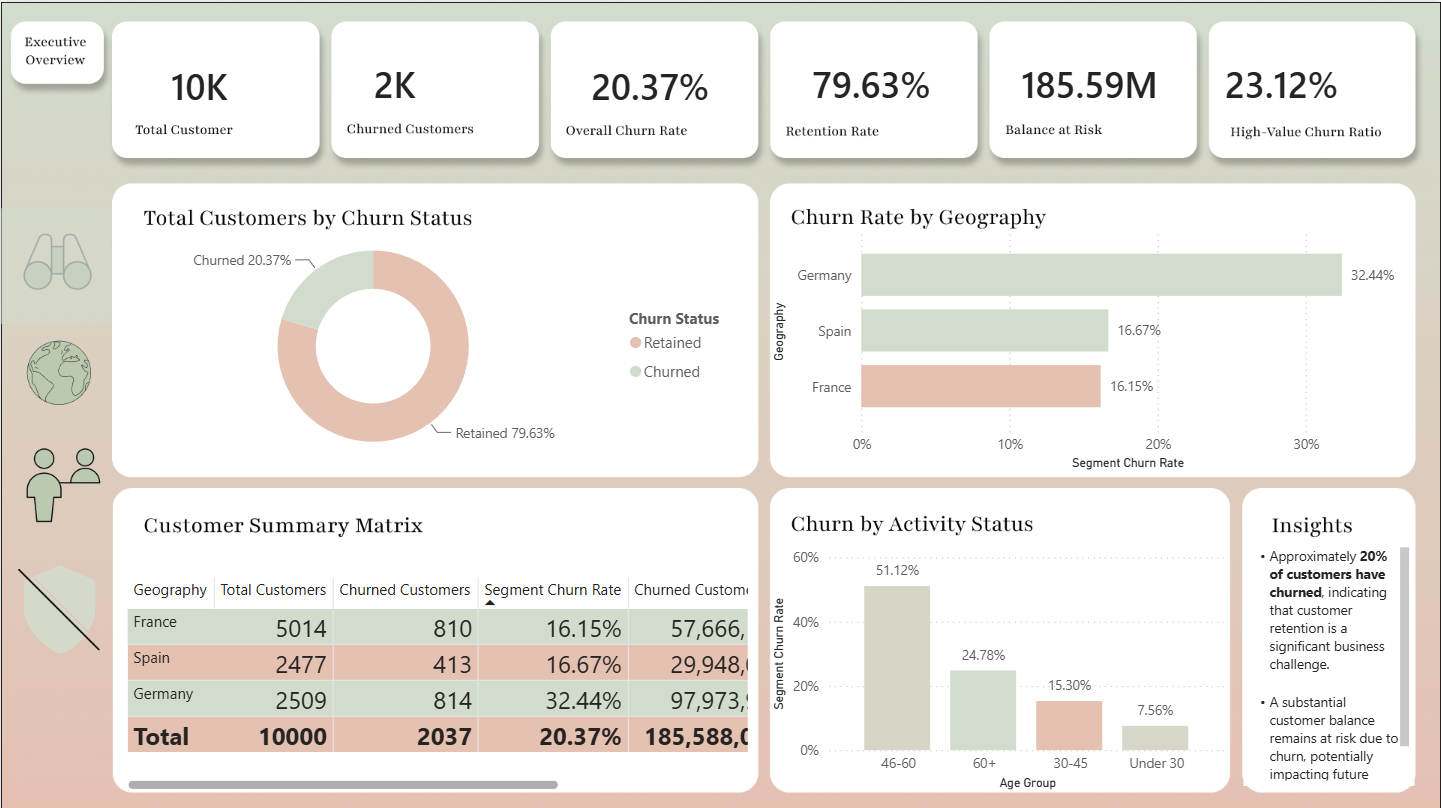

What the dashboard file says about the page in this screenshot:
{"tool":"powerbi","page":{"name":"Executive Overview","canvas":[1280,720],"ordinal":0},"visuals":[{"type":"cardVisual","fields":{"Data":["Measures (2).Total Customers"]},"box":[122.5,18.8,138.8,107.5],"z":0},{"type":"cardVisual","fields":{"Data":["Measures (2).Overall Churn Rate"]},"box":[495,18.8,165,108.8],"z":1000},{"type":"cardVisual","fields":{"Data":["Measures (2).Retention Rate"]},"box":[692.5,17.5,170,108.8],"z":2000},{"type":"cardVisual","fields":{"Data":["Measures (2).Balance at Risk"]},"box":[877.5,17.5,181.2,108.8],"z":3000},{"type":"cardVisual","fields":{"Data":["Measures (2).High-Value Churn Ratio"]},"box":[1058.8,17.5,221.2,108.8],"z":4000},{"type":"donutChart","fields":{"Y":["Measures (2).Total Customers"],"Category":["Bank_Customers.Churn Status"]},"box":[98.8,191.2,561.2,230],"z":5000},{"type":"clusteredBarChart","title":"Churn Rate by Geography","fields":{"Category":["Bank_Customers.Geography"],"Y":["Measures (2).Segment Churn Rate"]},"box":[681.2,191.2,575,230],"z":6000},{"type":"columnChart","title":"Churn by Activity Status","fields":{"Category":["Bank_Customers.Age Group"],"Y":["Measures (2).Segment Churn Rate"]},"box":[681.2,480,412.5,225],"z":7000},{"type":"pivotTable","fields":{"Rows":["Bank_Customers.Geography"],"Values":["Measures (2).Total Customers","Measures (2).Churned Customers","Measures (2).Segment Churn Rate","Measures (2).Churned Customer Balance","Measures (2).Geographic Risk Index"]},"box":[107.5,506.2,561.2,198.8],"z":8000},{"type":"cardVisual","fields":{"Data":["Measures (2).Churned Customers"]},"box":[302.5,17.5,138.8,107.5],"z":9000},{"type":"actionButton","box":[0,286.2,100,82.5],"z":10000},{"type":"actionButton","box":[0,387.7,100,82.3],"z":11000},{"type":"actionButton","box":[0,486.9,100,105.4],"z":12000},{"type":"actionButton","box":[0,183,98,103],"z":12001},{"type":"textbox","box":[1104.4,480,152.2,216.7],"z":12002}]}

Visuals, with their boxes in screenshot pixels (x1, y1, x2, y2), scaled from the page's 1280x720 canvas onto the 1441x808 screenshot:
cardVisual - Measures (2).Total Customers: 138 21 294 142
cardVisual - Measures (2).Overall Churn Rate: 557 21 743 143
cardVisual - Measures (2).Retention Rate: 780 20 971 142
cardVisual - Measures (2).Balance at Risk: 988 20 1192 142
cardVisual - Measures (2).High-Value Churn Ratio: 1192 20 1440 142
donutChart - Measures (2).Total Customers x Bank_Customers.Churn Status: 111 215 743 473
"Churn Rate by Geography" clusteredBarChart: 767 215 1414 473
"Churn by Activity Status" columnChart: 767 539 1231 791
pivotTable - Bank_Customers.Geography x Measures (2).Total Customers: 121 568 753 791
cardVisual - Measures (2).Churned Customers: 341 20 497 140
actionButton: 0 321 113 414
actionButton: 0 435 113 527
actionButton: 0 546 113 665
actionButton: 0 205 110 321
textbox: 1243 539 1415 782
